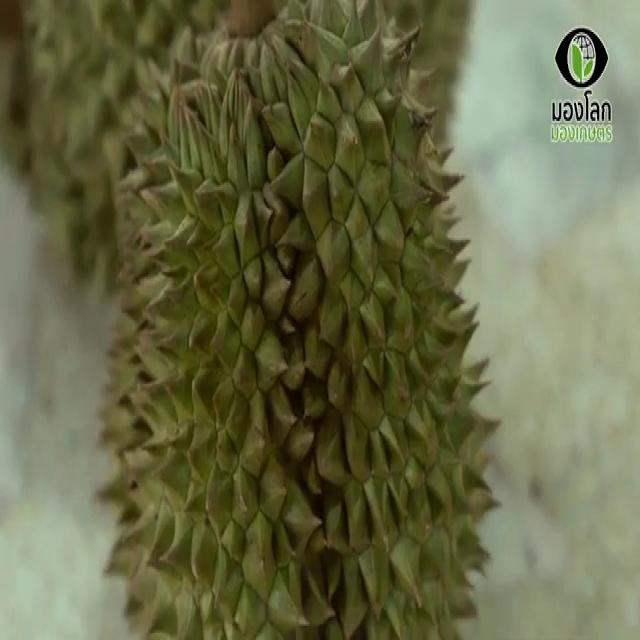durian: (99, 1, 497, 638)
